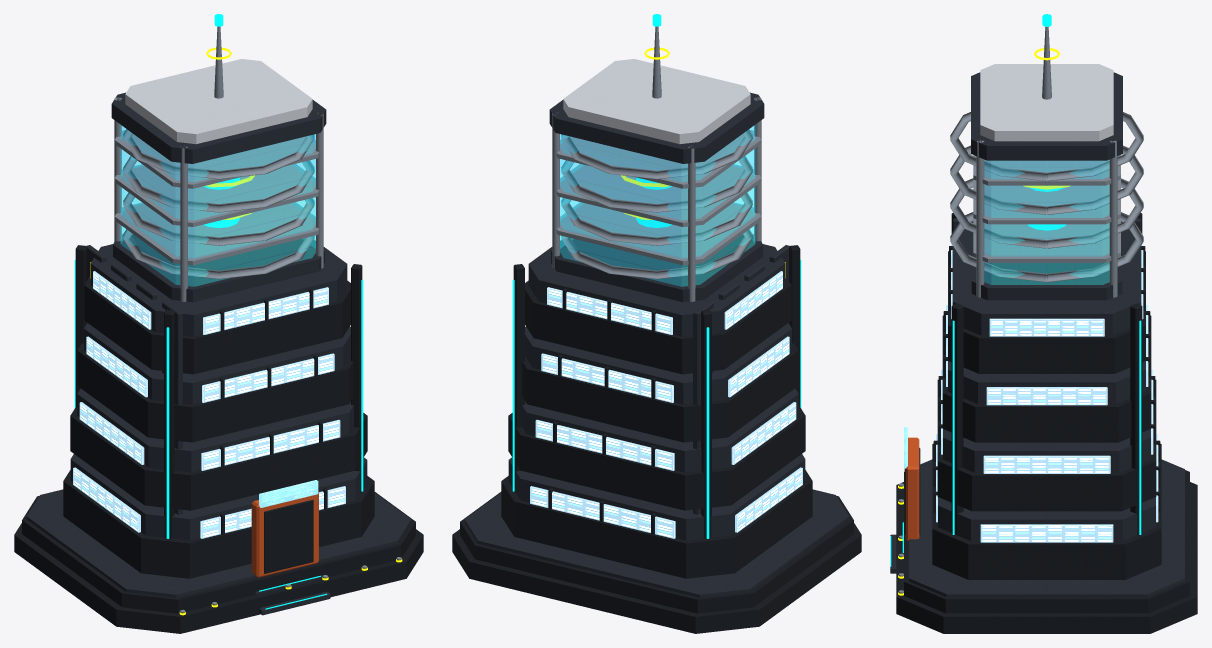
The model's file is bldg_12_r1_01.glb.
3 renders of one model, left to right at view 1: azimuth 30°, elevation 25°; view 2: azimuth 150°, elevation 25°; view 3: azimuth 270°, elevation 25°, orthographic.
Parts seen in each view (by area): view 1: Bldg12_C01_gunmetal, Bldg12_C01_carbon_slate, Bldg12_C01_steel_machined, Bldg12_C01_glass_cyan, Bldg12_C01_window_lit, Bldg12_C01_aero_white, Bldg12_C01_led_cyan, Bldg12_C01_accent_orange, Bldg12_C01_marquee; view 2: Bldg12_C01_gunmetal, Bldg12_C01_carbon_slate, Bldg12_C01_steel_machined, Bldg12_C01_glass_cyan, Bldg12_C01_window_lit, Bldg12_C01_aero_white, Bldg12_C01_led_cyan; view 3: Bldg12_C01_gunmetal, Bldg12_C01_carbon_slate, Bldg12_C01_steel_machined, Bldg12_C01_glass_cyan, Bldg12_C01_window_lit, Bldg12_C01_aero_white, Bldg12_C01_led_cyan, Bldg12_C01_accent_orange.
Part boxes in pixels (x1,y1,x2,y2): Bldg12_C01_gunmetal: [14, 245, 423, 633]; Bldg12_C01_carbon_slate: [26, 92, 411, 615]; Bldg12_C01_steel_machined: [114, 26, 401, 613]; Bldg12_C01_glass_cyan: [120, 125, 315, 286]; Bldg12_C01_window_lit: [73, 271, 345, 538]; Bldg12_C01_aero_white: [125, 59, 312, 144]; Bldg12_C01_led_cyan: [74, 14, 363, 609]; Bldg12_C01_accent_orange: [251, 491, 318, 577]; Bldg12_C01_marquee: [259, 480, 318, 507]; Bldg12_C01_gunmetal: [452, 245, 861, 633]; Bldg12_C01_carbon_slate: [464, 92, 849, 597]; Bldg12_C01_steel_machined: [552, 26, 761, 301]; Bldg12_C01_glass_cyan: [560, 125, 755, 286]; Bldg12_C01_window_lit: [530, 271, 802, 538]; Bldg12_C01_aero_white: [563, 59, 750, 144]; Bldg12_C01_led_cyan: [512, 14, 801, 538]; Bldg12_C01_gunmetal: [896, 213, 1197, 633]; Bldg12_C01_carbon_slate: [890, 72, 1184, 597]; Bldg12_C01_steel_machined: [898, 26, 1143, 593]; Bldg12_C01_glass_cyan: [984, 160, 1109, 284]; Bldg12_C01_window_lit: [936, 242, 1158, 542]; Bldg12_C01_aero_white: [980, 64, 1113, 141]; Bldg12_C01_led_cyan: [890, 14, 1141, 566]; Bldg12_C01_accent_orange: [905, 437, 919, 540].
Bounding box in the file's own units: 12.5 × 20.82 × 10.71.
Materials: 10 (10 with a texture image).
